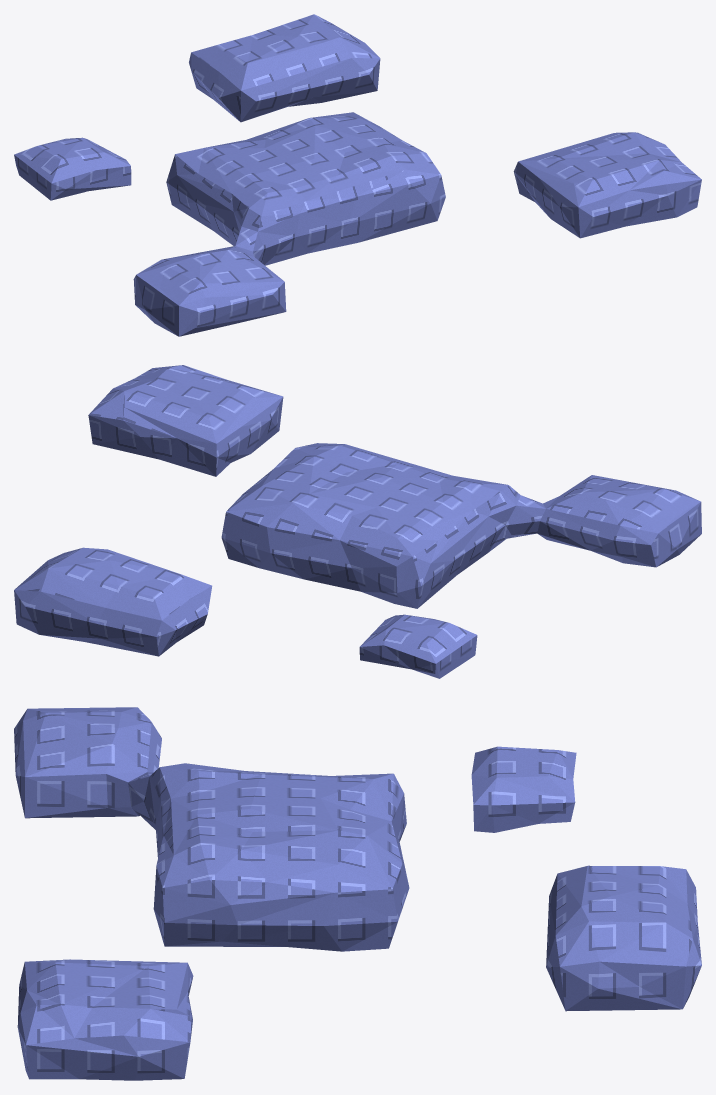
File: FlatStones.glb
3 views of the same model, one above another, from view 1: azimuth 30°, elevation 25°; view 2: azimuth 150°, elevation 25°; view 3: azimuth 270°, elevation 25° (orthographic). The views are drawn at different scales.
Visible parts, largest first — view 1: FlatStones_Rock; view 2: FlatStones_Rock; view 3: FlatStones_Rock.
Part boxes in pixels (left/top/right/bottom): FlatStones_Rock: left=14, top=14, right=701, bottom=336; FlatStones_Rock: left=14, top=365, right=701, bottom=678; FlatStones_Rock: left=14, top=707, right=701, bottom=1080.
Size of the model in its own units: 16.14 by 2.04 by 13.72.
1 material, 1 textured.
